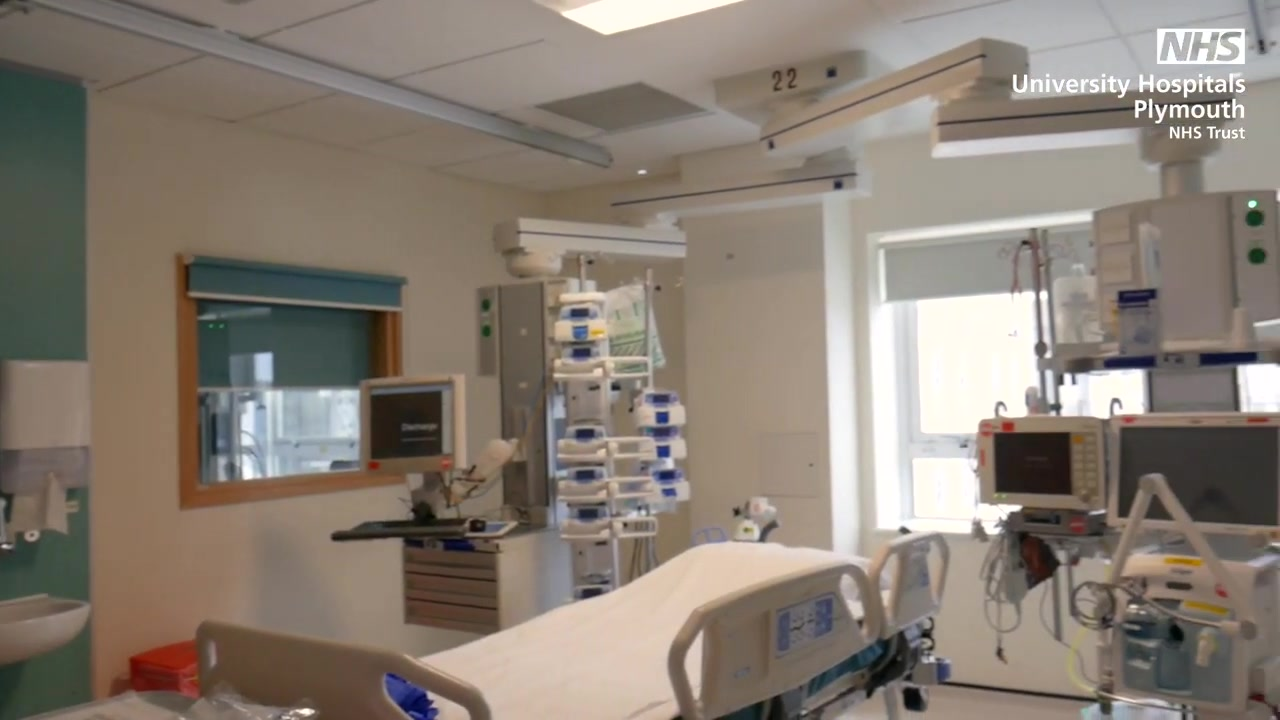bedrail: (668, 563, 878, 720), (861, 534, 952, 635)
bedside_monitor: (1113, 416, 1280, 537), (977, 416, 1104, 512)
computer: (358, 373, 465, 479)
dispenser: (1, 362, 90, 493)
drawer: (403, 537, 570, 629)
foot_board: (196, 620, 487, 720)
hospital_bed: (194, 538, 949, 720)
iv_pole: (1006, 231, 1069, 415), (632, 265, 686, 386), (544, 248, 621, 295)
keyboard: (358, 516, 459, 533)
mouse: (466, 520, 486, 532)
sink: (1, 599, 90, 664)
syringe_pump: (556, 303, 609, 341), (638, 469, 690, 505), (560, 425, 608, 464), (560, 465, 609, 502), (634, 391, 684, 427), (557, 345, 606, 380), (561, 504, 610, 538), (640, 428, 688, 459)
ventilator: (1102, 555, 1263, 720)
waste_bin: (128, 638, 212, 698)
